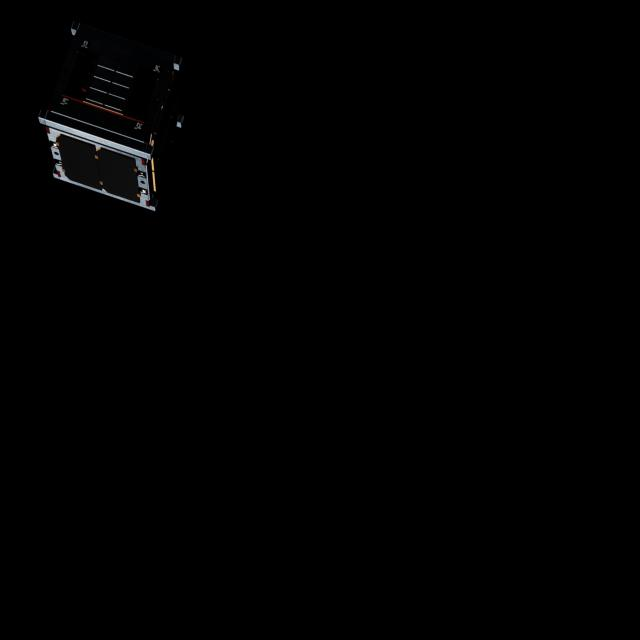satellite: (43, 5, 207, 214)
